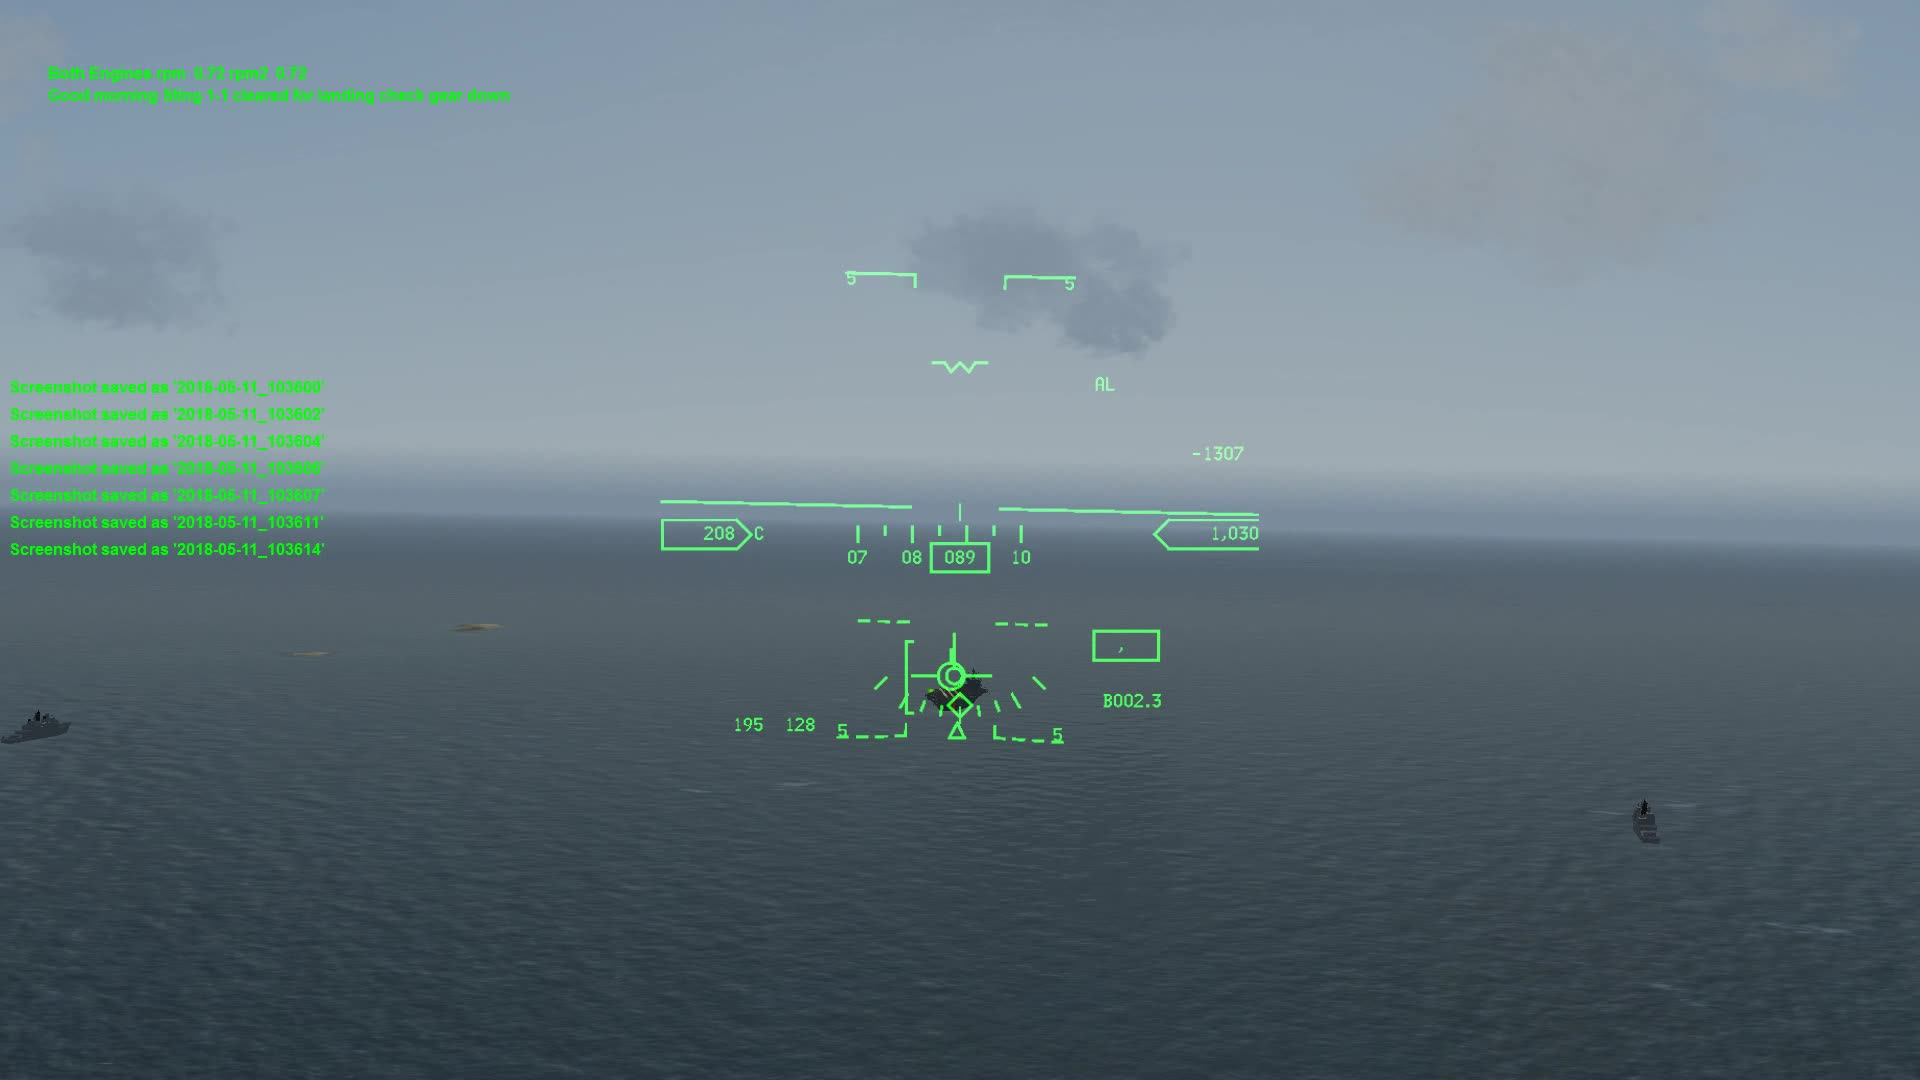speed vector: (928, 640, 976, 703)
